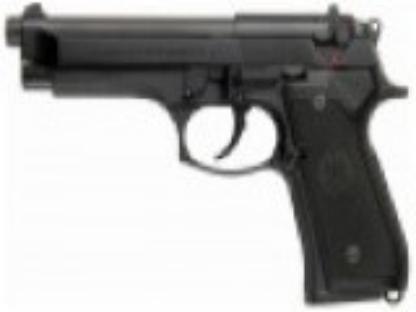pistol: (2, 2, 406, 302)
